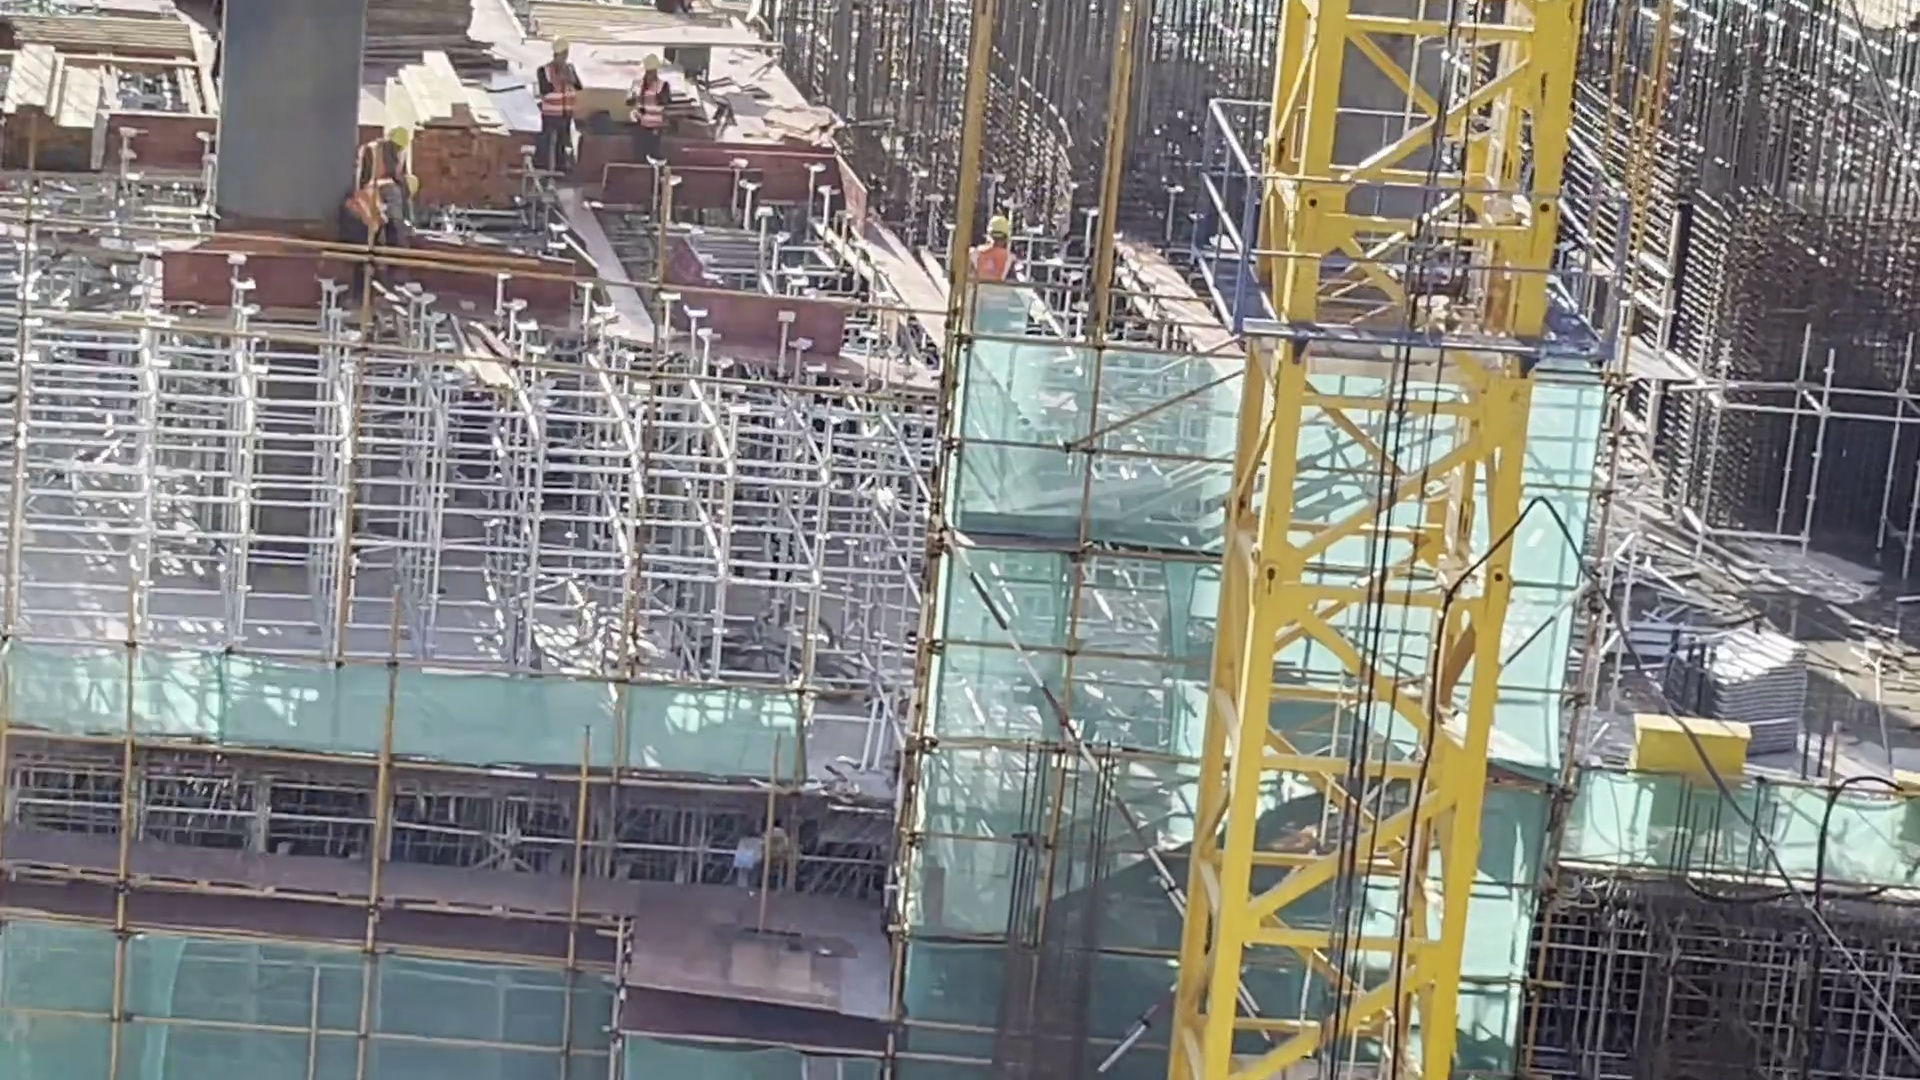helmet: (388, 123, 415, 151), (987, 215, 1010, 242), (546, 38, 573, 57), (640, 54, 660, 74)
person: (531, 30, 581, 174), (338, 175, 417, 245), (628, 51, 670, 169), (358, 129, 413, 188), (970, 216, 1018, 284)
vest: (627, 77, 673, 136), (537, 65, 581, 121), (362, 141, 418, 184), (346, 180, 388, 233), (974, 243, 1014, 282)
